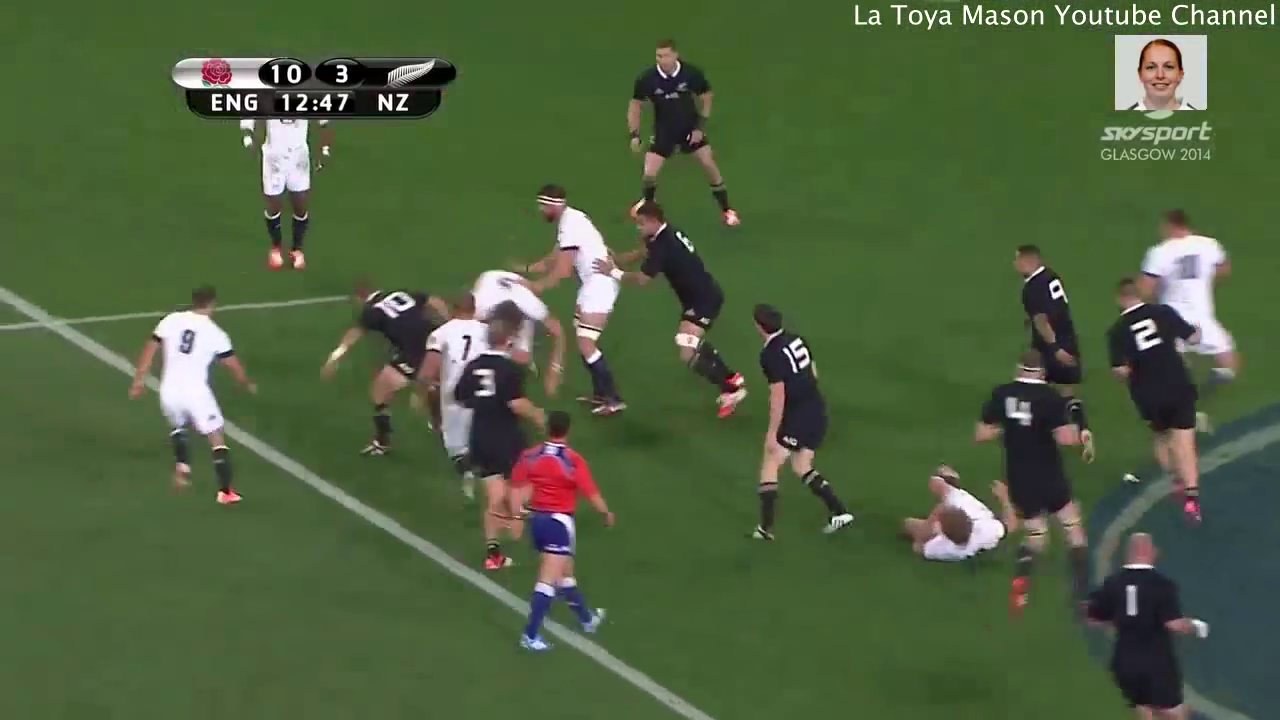player: (741, 295, 862, 540), (128, 283, 256, 507), (624, 199, 749, 418), (505, 416, 620, 654), (524, 186, 637, 424), (978, 352, 1081, 611), (613, 36, 745, 237), (1081, 528, 1207, 720), (1109, 276, 1205, 517), (457, 319, 531, 573), (325, 285, 420, 462), (236, 118, 341, 278), (421, 293, 483, 496), (908, 452, 1001, 569), (1004, 238, 1077, 382), (1136, 212, 1229, 318), (467, 266, 534, 314)
